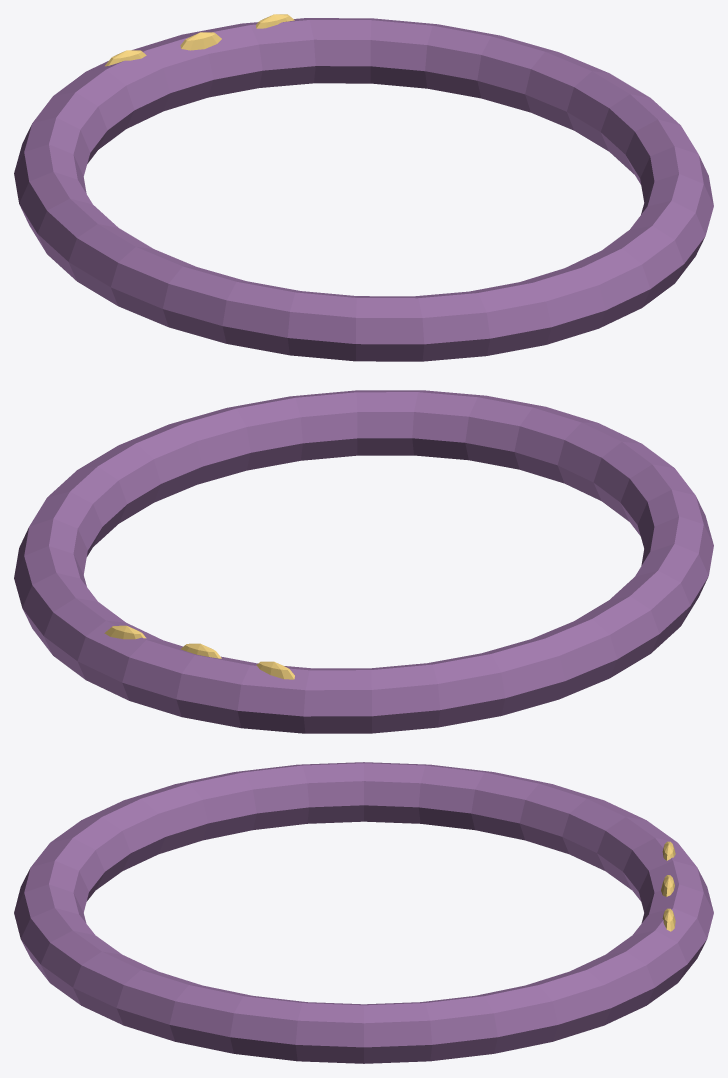
File: outfit_3_runtime.glb
3 renders of one model, top to bottom at view 1: azimuth 30°, elevation 25°; view 2: azimuth 150°, elevation 25°; view 3: azimuth 270°, elevation 25°, orthographic. The views are drawn at different scales.
Parts seen in each view (by area): view 1: Earned hat ribbon, Achievement rosette.001; view 2: Earned hat ribbon; view 3: Earned hat ribbon.
Part boxes in pixels (bbox=[...]): Earned hat ribbon: bbox=[14, 18, 713, 361]; Achievement rosette.001: bbox=[180, 32, 221, 50]; Earned hat ribbon: bbox=[14, 390, 713, 733]; Earned hat ribbon: bbox=[14, 762, 713, 1063].
Size of the model in its own units: 0.522 by 0.058 by 0.5742.
